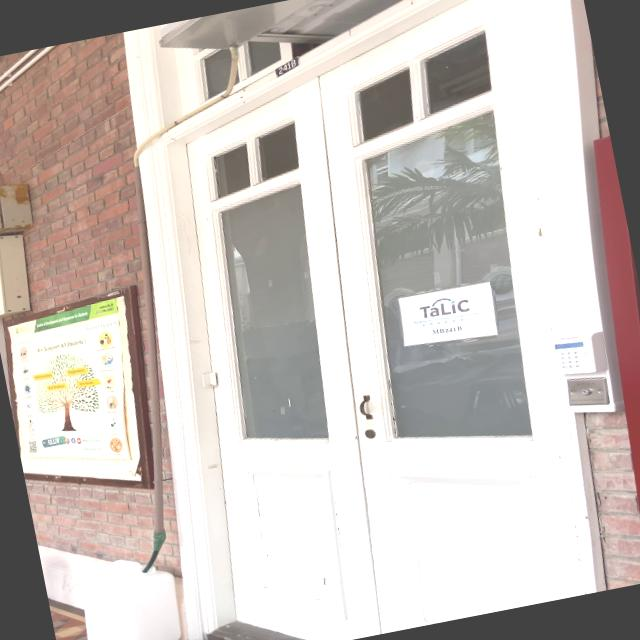room241b: (271, 54, 302, 80)
